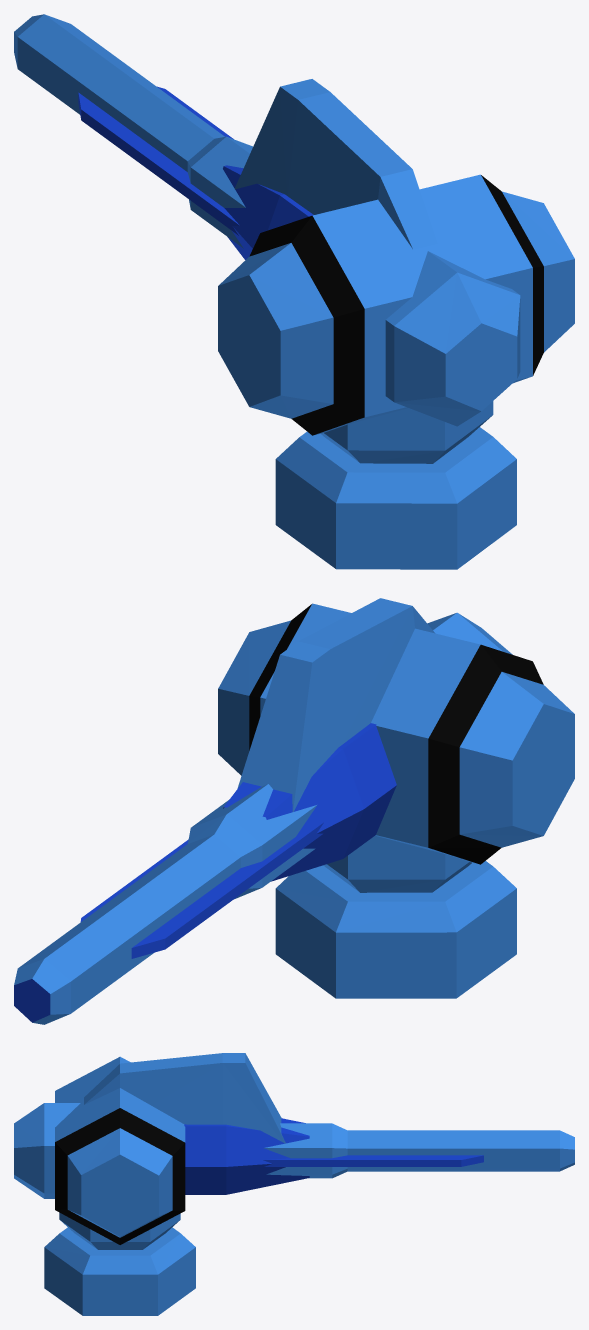
Rendered from gun.FBX.
3 views of the same model, one above another, from view 1: azimuth 30°, elevation 25°; view 2: azimuth 150°, elevation 25°; view 3: azimuth 270°, elevation 25° (orthographic). The views are drawn at different scales.
Parts seen in each view (by area): view 1: VIFS001, VIFS003, VIFS002; view 2: VIFS001, VIFS002, VIFS003; view 3: VIFS001, VIFS002, VIFS003.
Boxes of the visible parts, x1=… form: VIFS001: x1=14, y1=14, x2=574, y2=569; VIFS003: x1=249, y1=175, x2=543, y2=435; VIFS002: x1=78, y1=86, x2=313, y2=259; VIFS001: x1=14, y1=598, x2=574, y2=1024; VIFS002: x1=14, y1=723, x2=396, y2=1022; VIFS003: x1=249, y1=604, x2=543, y2=864; VIFS001: x1=14, y1=1053, x2=574, y2=1315; VIFS002: x1=184, y1=1118, x2=483, y2=1194; VIFS003: x1=55, y1=1108, x2=185, y2=1244.
Bounding box in the file's own units: 0.42 × 0.503 × 1.11.
